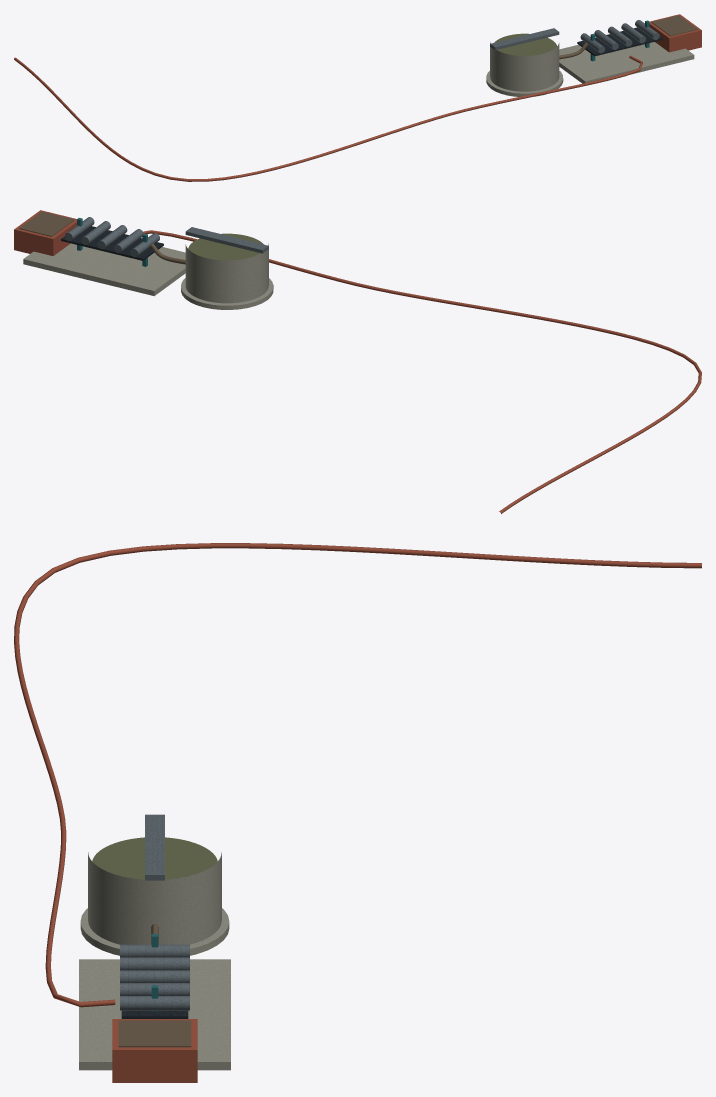
Rendered from water-sludge.6b3ade885f03.glb.
3 renders of one model, top to bottom at view 1: azimuth 30°, elevation 25°; view 2: azimuth 150°, elevation 25°; view 3: azimuth 270°, elevation 25°, orthographic. The views are drawn at different scales.
Parts seen in each view (by area): view 1: structure_concrete_00018, structure_warm_00022, structure_steel_00019, thickener_surface_00003, structure_earth_00023, structure_dark_00021; view 2: structure_concrete_00018, structure_warm_00022, structure_steel_00019, thickener_surface_00003, structure_earth_00023, structure_dark_00021; view 3: structure_concrete_00018, structure_warm_00022, structure_steel_00019, thickener_surface_00003, structure_earth_00023.
Boxes of the visible parts, x1,y1,x2,y2 form: structure_concrete_00018: (486, 42, 694, 96); structure_warm_00022: (14, 14, 701, 181); structure_steel_00019: (490, 20, 659, 53); thickener_surface_00003: (494, 33, 556, 55); structure_earth_00023: (559, 15, 697, 59); structure_dark_00021: (577, 27, 662, 56); structure_concrete_00018: (23, 243, 273, 309); structure_warm_00022: (14, 210, 701, 513); structure_steel_00019: (65, 217, 268, 257); thickener_surface_00003: (188, 233, 263, 260); structure_earth_00023: (19, 211, 185, 264); structure_dark_00021: (61, 226, 163, 260); structure_concrete_00018: (79, 852, 230, 1070); structure_warm_00022: (14, 543, 701, 1082); structure_steel_00019: (120, 814, 189, 1010); thickener_surface_00003: (92, 837, 217, 879); structure_earth_00023: (118, 924, 191, 1047).
Bounding box in the file's own units: 40.83 × 3.05 × 22.64.
Materials: 7 (3 with a texture image).
